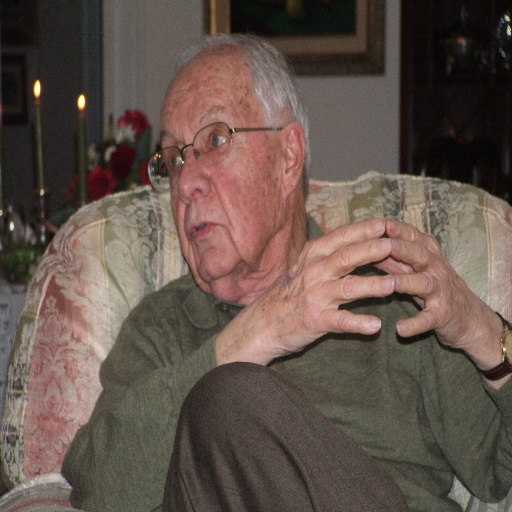hand: (245, 213, 426, 361), (372, 217, 477, 349)
